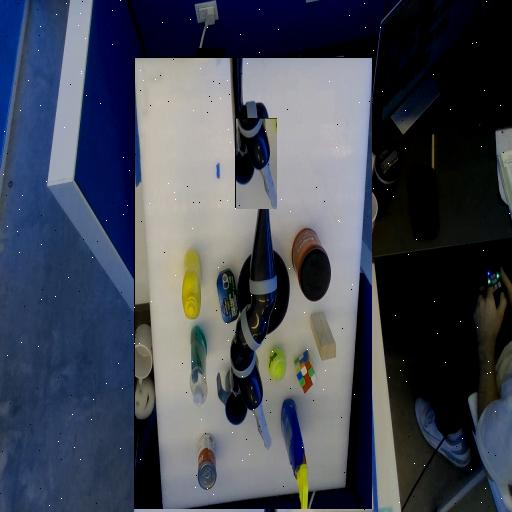bowl: (218, 233, 268, 318)
cleanser: (299, 193, 316, 209)
coffee_can: (176, 267, 214, 338)
jaco: (236, 118, 277, 209)
meat_can: (268, 245, 289, 298)
mug: (258, 156, 289, 186)
mustard_bottle: (305, 249, 324, 317)
rubik: (190, 174, 212, 217)
soup_can: (290, 97, 308, 115)
tennis_ball: (221, 188, 238, 218)
windex: (197, 96, 225, 118)
wooden_block: (170, 219, 195, 244)
workspace: (134, 58, 372, 509)
